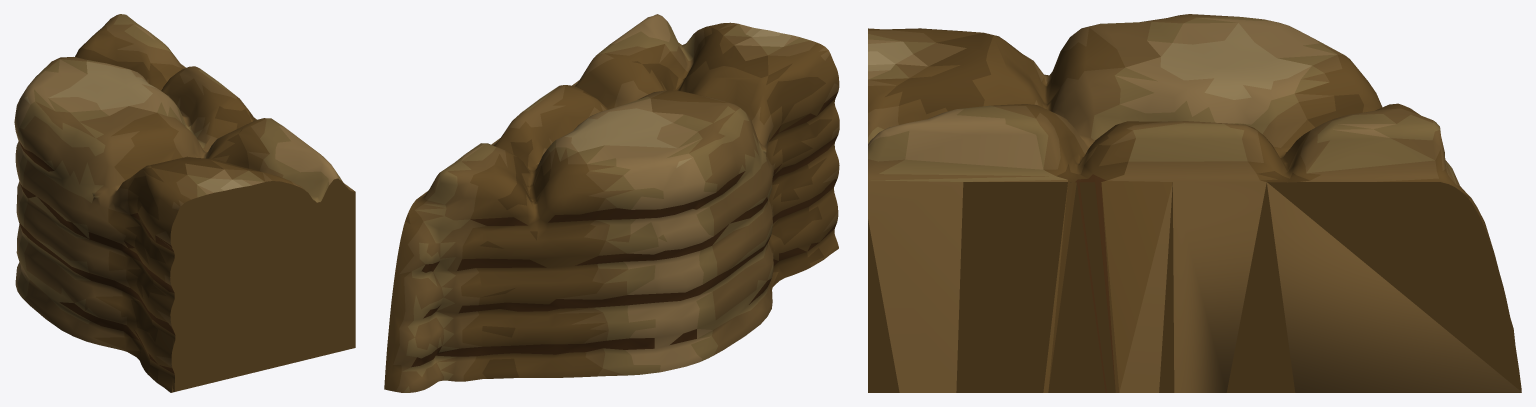
The model's file is ixm_wall_end_l_top.glb.
The picture shows the model from 3 angles, left to right: view 1: azimuth 30°, elevation 25°; view 2: azimuth 150°, elevation 25°; view 3: azimuth 270°, elevation 25°; orthographic projection. The views are drawn at different scales.
Visible parts, largest first — view 1: ixm_wall_end_l_top; view 2: ixm_wall_end_l_top; view 3: ixm_wall_end_l_top.
Part boxes in pixels (x1,y1,x2,y2): ixm_wall_end_l_top: (14, 14, 355, 392); ixm_wall_end_l_top: (384, 14, 839, 392); ixm_wall_end_l_top: (868, 14, 1521, 392).
Size of the model in its own units: 12.06 by 10.89 by 24.9.
